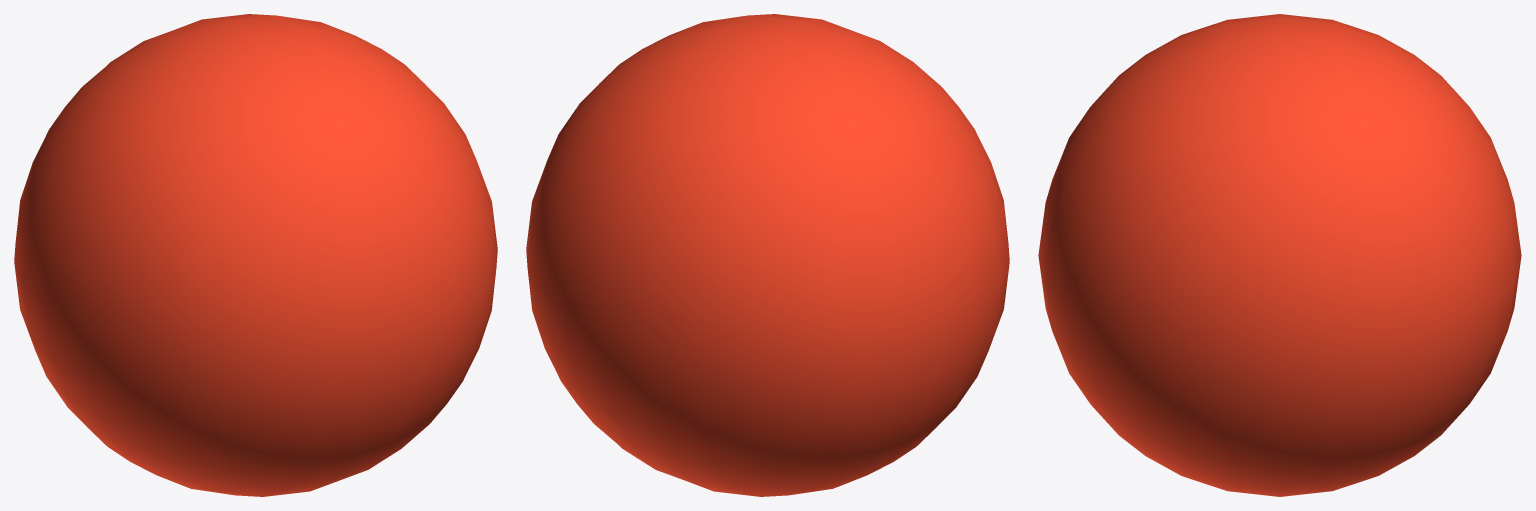
The model's file is SpitBlob.fbx.
3 views of the same model, side by side, from view 1: azimuth 30°, elevation 25°; view 2: azimuth 150°, elevation 25°; view 3: azimuth 270°, elevation 25° (orthographic).
Parts seen in each view (by area): view 1: SpitBlob; view 2: SpitBlob; view 3: SpitBlob.
Boxes of the visible parts, x1,y1,x2,y2 form: SpitBlob: (14,14,497,496); SpitBlob: (526,14,1009,496); SpitBlob: (1038,14,1521,496).
Size of the model in its own units: 0.34 by 0.34 by 0.34.
